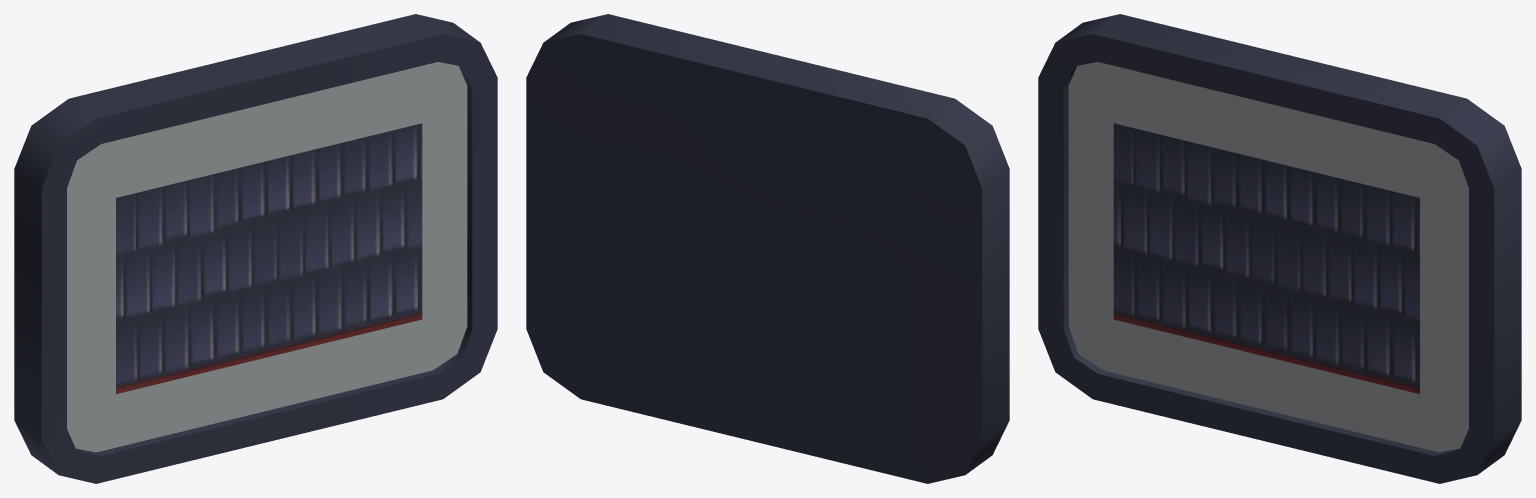
The model's file is floor-panel02-art.glb.
3 renders of one model, left to right at view 1: azimuth 30°, elevation 25°; view 2: azimuth 150°, elevation 25°; view 3: azimuth 330°, elevation 25°, orthographic.
Visible parts, largest first — view 1: FloorPanel02_Art; view 2: FloorPanel02_Art; view 3: FloorPanel02_Art.
Part boxes in pixels (x1,y1,x2,y2): FloorPanel02_Art: [14, 14, 497, 483]; FloorPanel02_Art: [526, 14, 1009, 483]; FloorPanel02_Art: [1038, 14, 1521, 483].
Bounding box in the file's own units: 1.19 × 0.9104 × 0.1233.
2 materials, 2 textured.
